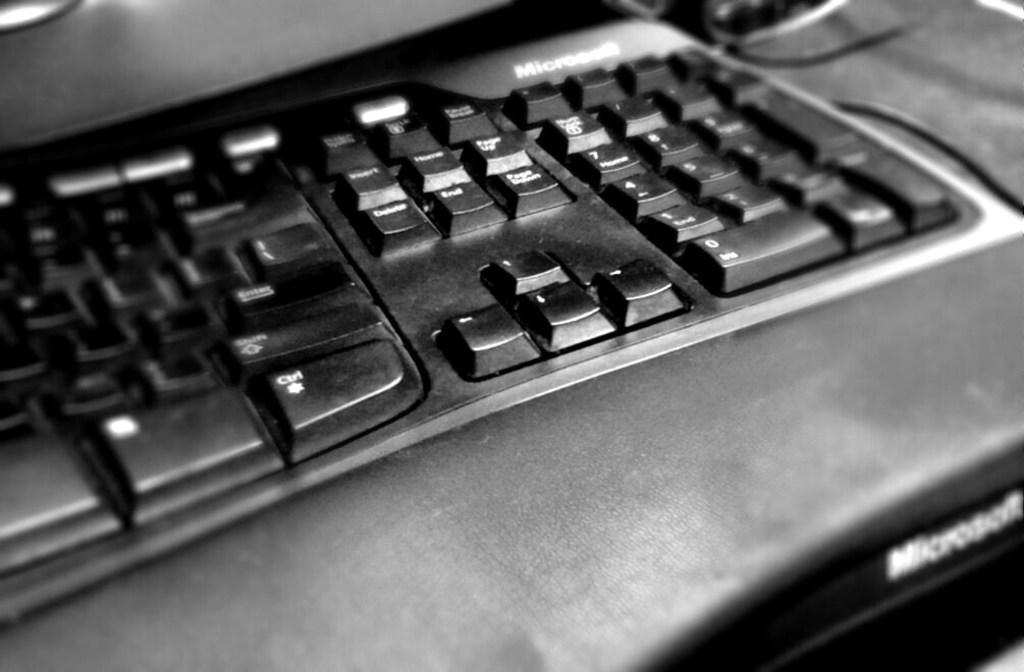Computer-keyboard: (0, 19, 1023, 671)
